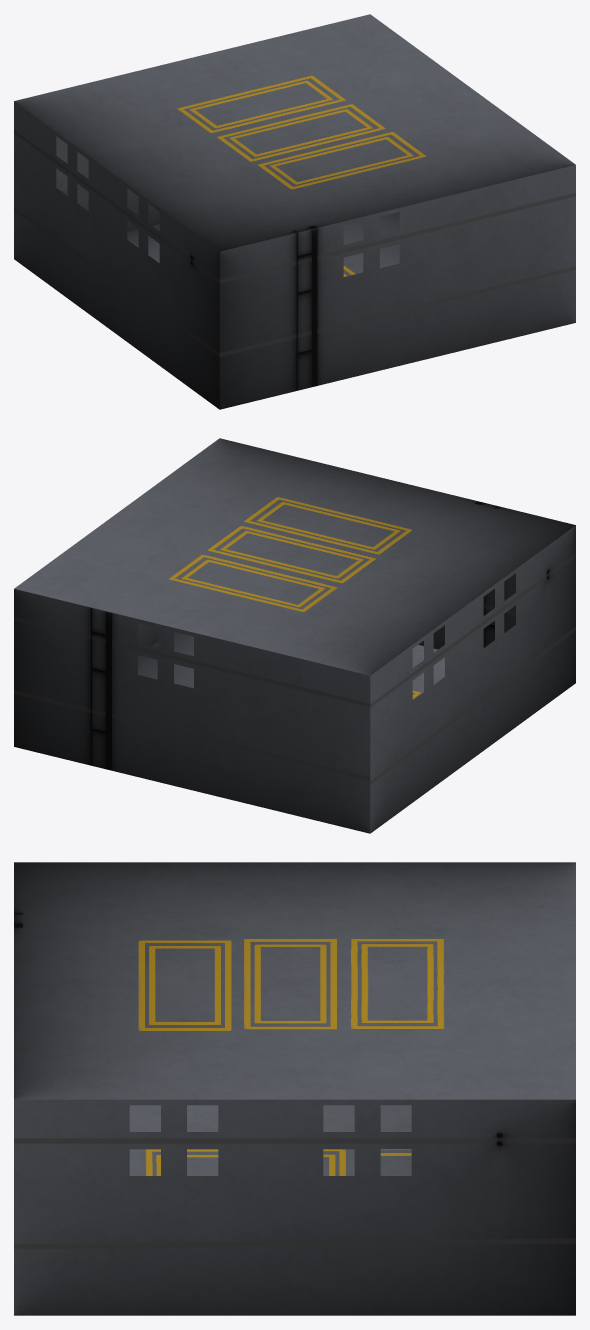
The model's file is Map.fbx.
The picture shows the model from 3 angles, top to bottom: view 1: azimuth 30°, elevation 25°; view 2: azimuth 150°, elevation 25°; view 3: azimuth 270°, elevation 25°; orthographic projection. The views are drawn at different scales.
Visible parts, largest first — view 1: Map; view 2: Map; view 3: Map.
Boxes of the visible parts, <box> form: Map: <box>14,14,575,409</box>; Map: <box>14,438,575,833</box>; Map: <box>14,862,575,1315</box>.
Size of the model in its own units: 1454 by 616 by 1454.
